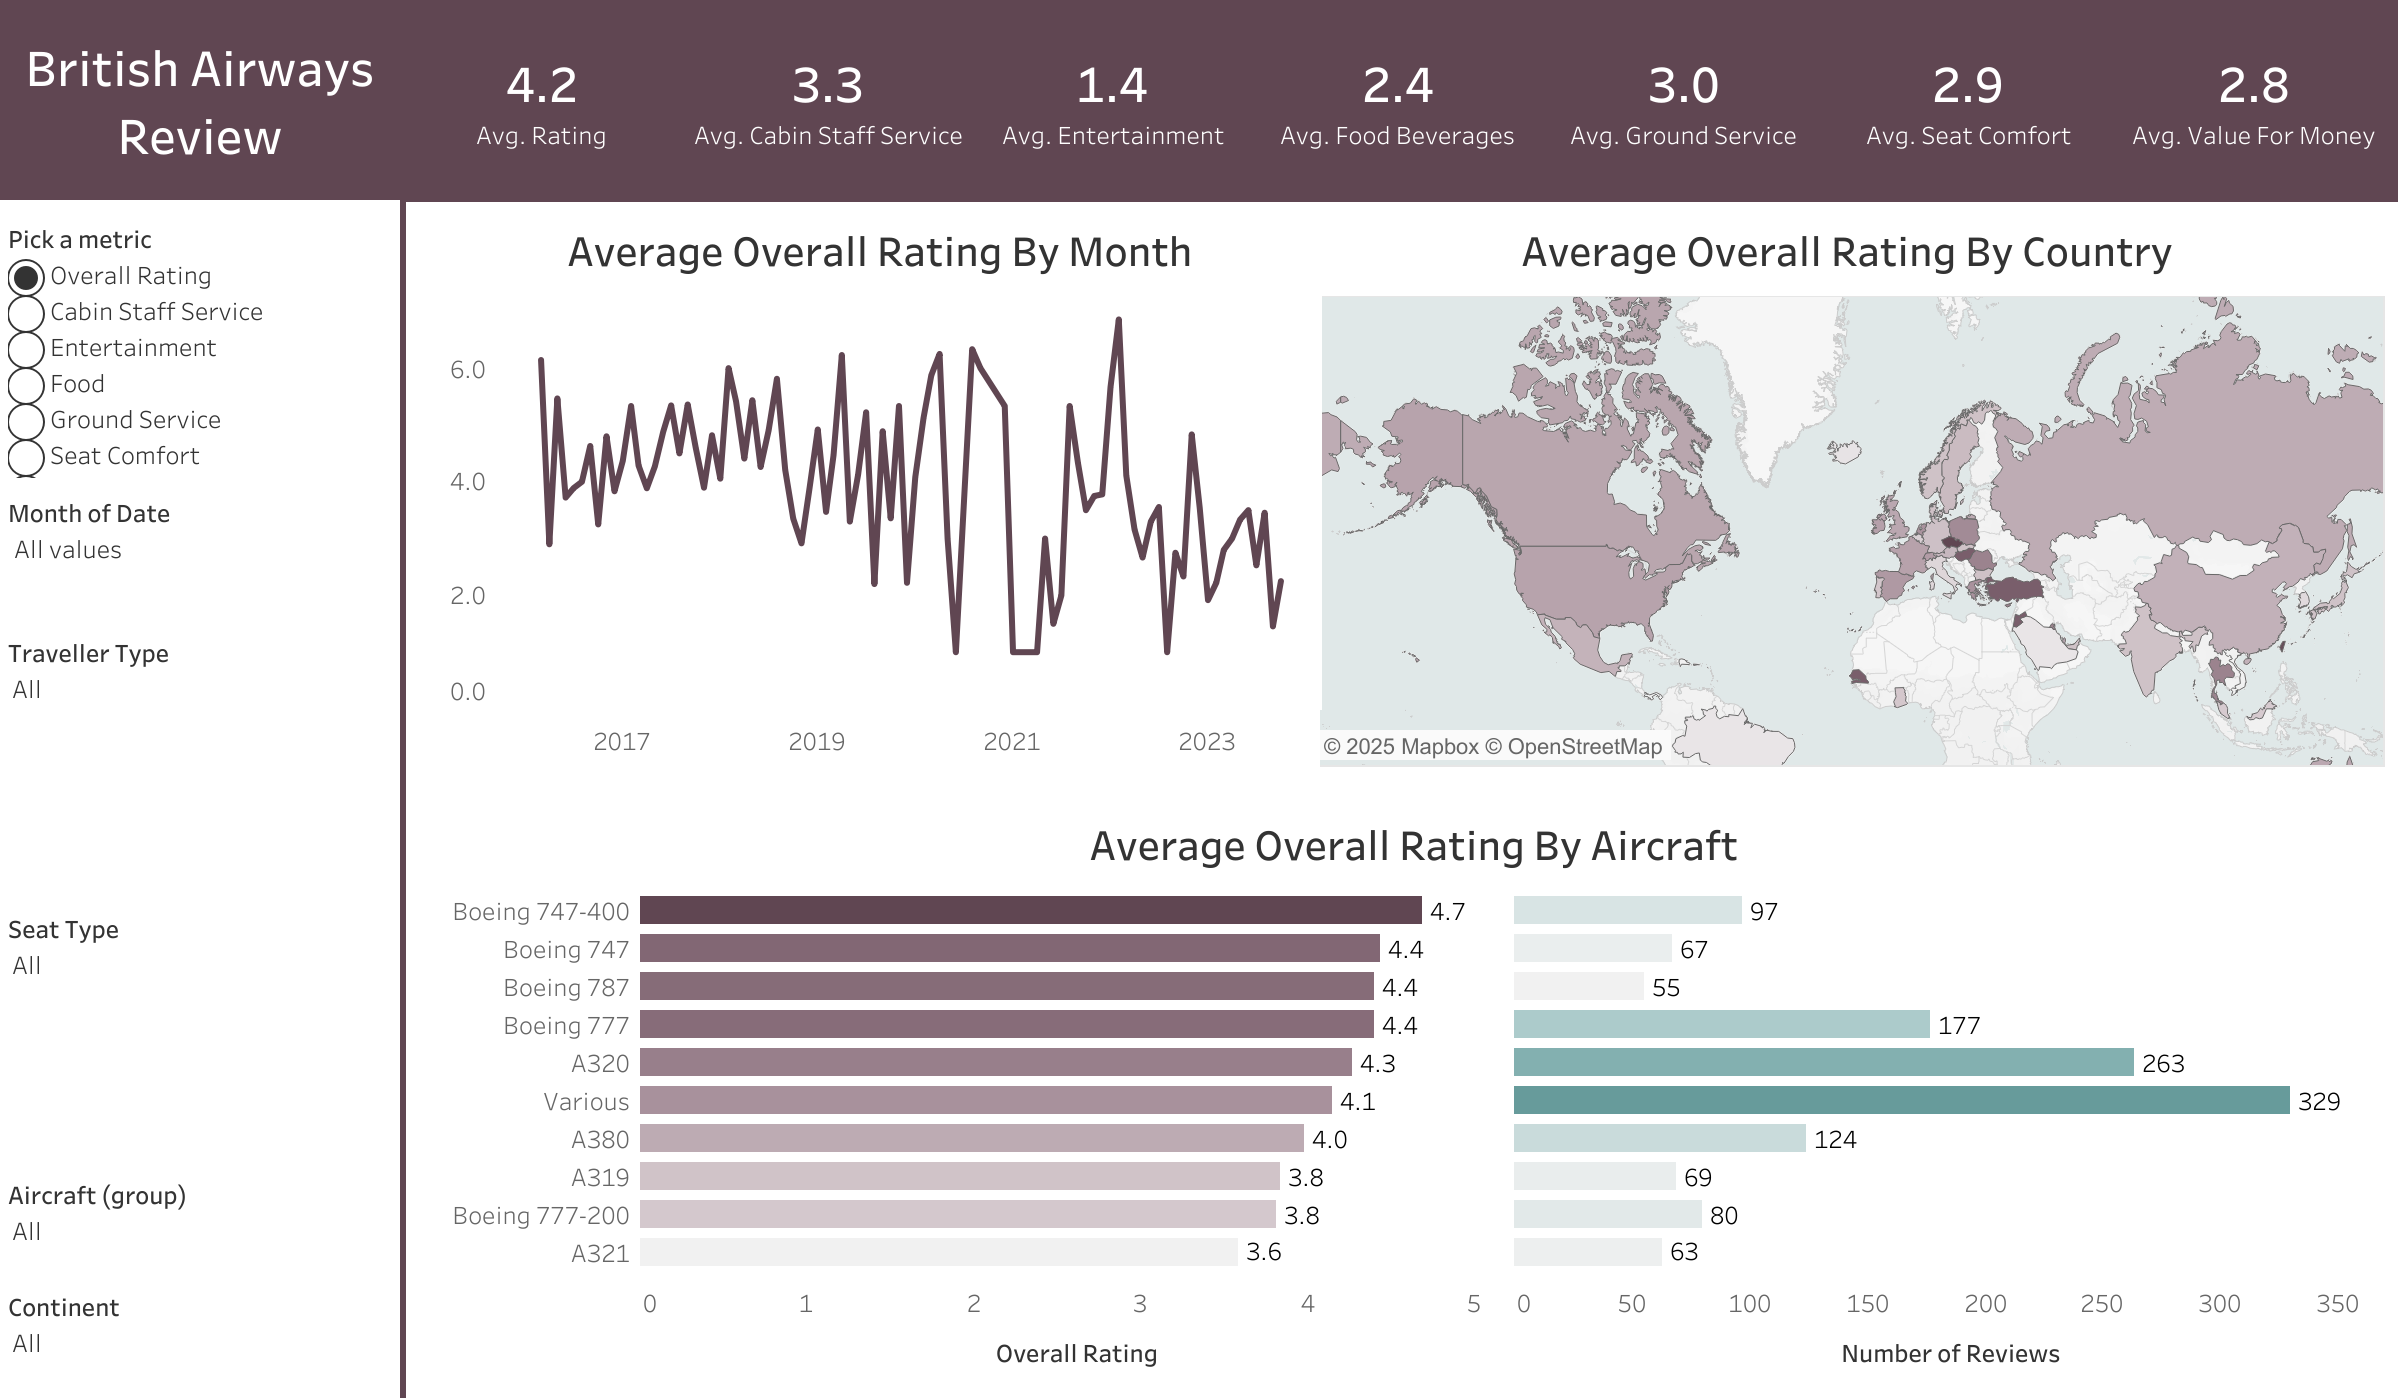

Layout of this report page (visuals, bound fields, positions):
{"tool":"tableau","page":{"name":"Dashboard 1","canvas":[1200,700],"ordinal":0},"visuals":[{"type":"text","box":[0,0,200,100]},{"type":"worksheet","title":"Summary","mark":"Automatic","box":[200,0,999,100]},{"type":"blank","box":[200,100,3,600]},{"type":"parameter","param":"[Parameters].[Parameter 1]","box":[0,105,200,145]},{"type":"worksheet","title":"Month","mark":"Automatic","rows":["Calculation_314126134493306880"],"cols":["date"],"box":[220,105,440,279]},{"type":"worksheet","title":"Map","mark":"Automatic","box":[654,105,539,279]},{"type":"filter","title":"Map","param":"[federated.1ogcg5v0sc6ruk10oog450miflbg].[tmn:date:qk]","box":[0,250,200,69]},{"type":"filter","title":"Map","param":"[federated.1ogcg5v0sc6ruk10oog450miflbg].[none:traveller_type:nk]","box":[0,319,200,145]},{"type":"worksheet","title":"Aircraft","mark":"Automatic","cols":["Calculation_314126134493306880","ba_reviews.csv_E16F85F7AA3041C3BCCC7B2944D297C4"],"box":[220,402,974,290]},{"type":"filter","title":"Map","param":"[federated.1ogcg5v0sc6ruk10oog450miflbg].[none:seat_type:nk]","box":[0,464,200,127]},{"type":"filter","title":"Map","param":"[federated.1ogcg5v0sc6ruk10oog450miflbg].[Aircraft (group)]","box":[0,591,200,52]},{"type":"filter","title":"Map","param":"[federated.1ogcg5v0sc6ruk10oog450miflbg].[none:Continent:nk]","box":[0,643,200,52]}]}

Visuals, with their boxes in screenshot pixels (x1, y1, x2, y2), scaled from the page's 1200x700 canvas onto the 2398x1398 screenshot:
text: (0,0,400,200)
"Summary" worksheet: (400,0,2396,200)
blank: (400,200,406,1397)
parameter: (0,210,400,499)
"Month" worksheet: (440,210,1319,767)
"Map" worksheet: (1307,210,2384,767)
"Map" filter: (0,499,400,637)
"Map" filter: (0,637,400,927)
"Aircraft" worksheet: (440,803,2386,1382)
"Map" filter: (0,927,400,1180)
"Map" filter: (0,1180,400,1284)
"Map" filter: (0,1284,400,1388)
